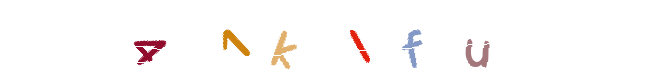1: (200, 0, 280, 80)
4: (179, 0, 259, 80)
F: (372, 0, 452, 80)
K: (249, 0, 329, 80)
L: (290, 0, 370, 80)
U: (403, 0, 483, 80)
